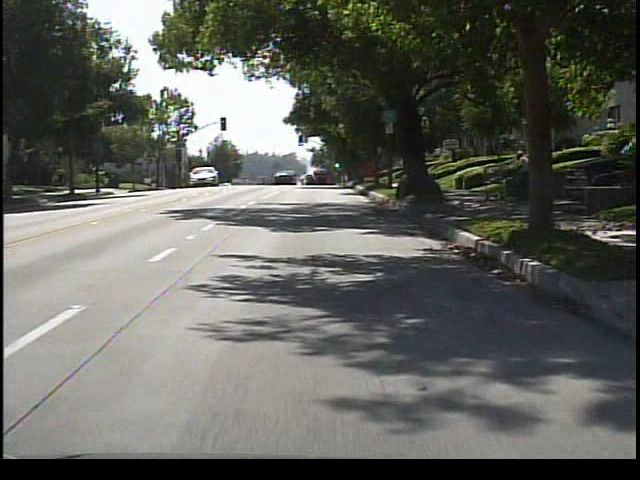person: (510, 146, 538, 202)
